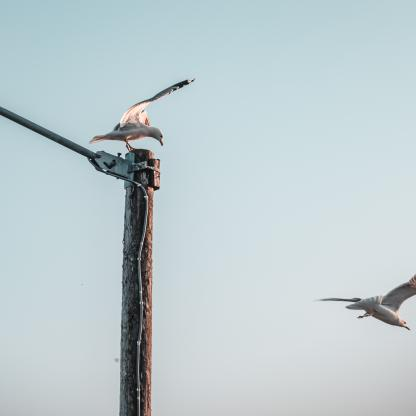bird: (91, 77, 197, 151), (316, 274, 416, 332)
